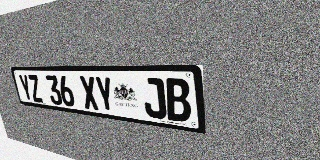3: (45, 75, 63, 106)
6: (57, 75, 76, 107)
B: (164, 78, 192, 123)
J: (141, 77, 167, 120)
X: (79, 76, 100, 111)
Y: (94, 76, 116, 113), (18, 74, 34, 102)
Z: (27, 75, 44, 103)
